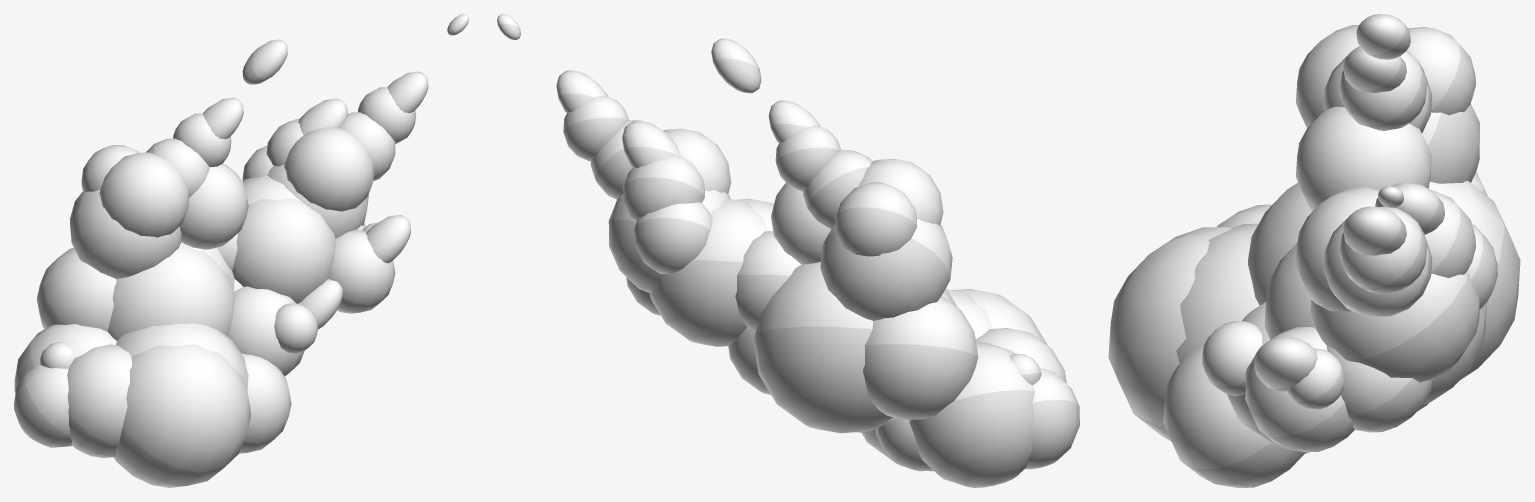
File: cloud_giant02.FBX
3 renders of one model, left to right at view 1: azimuth 30°, elevation 25°; view 2: azimuth 150°, elevation 25°; view 3: azimuth 270°, elevation 25°, orthographic. The views are drawn at different scales.
Parts seen in each view (by area): view 1: cloud_giant02; view 2: cloud_giant02; view 3: cloud_giant02.
Boxes of the visible parts, x1,y1,x2,y2 form: cloud_giant02: [14, 14, 468, 487]; cloud_giant02: [497, 14, 1079, 487]; cloud_giant02: [1108, 14, 1520, 487].
Bounding box in the file's own units: 402 × 293 × 203.
